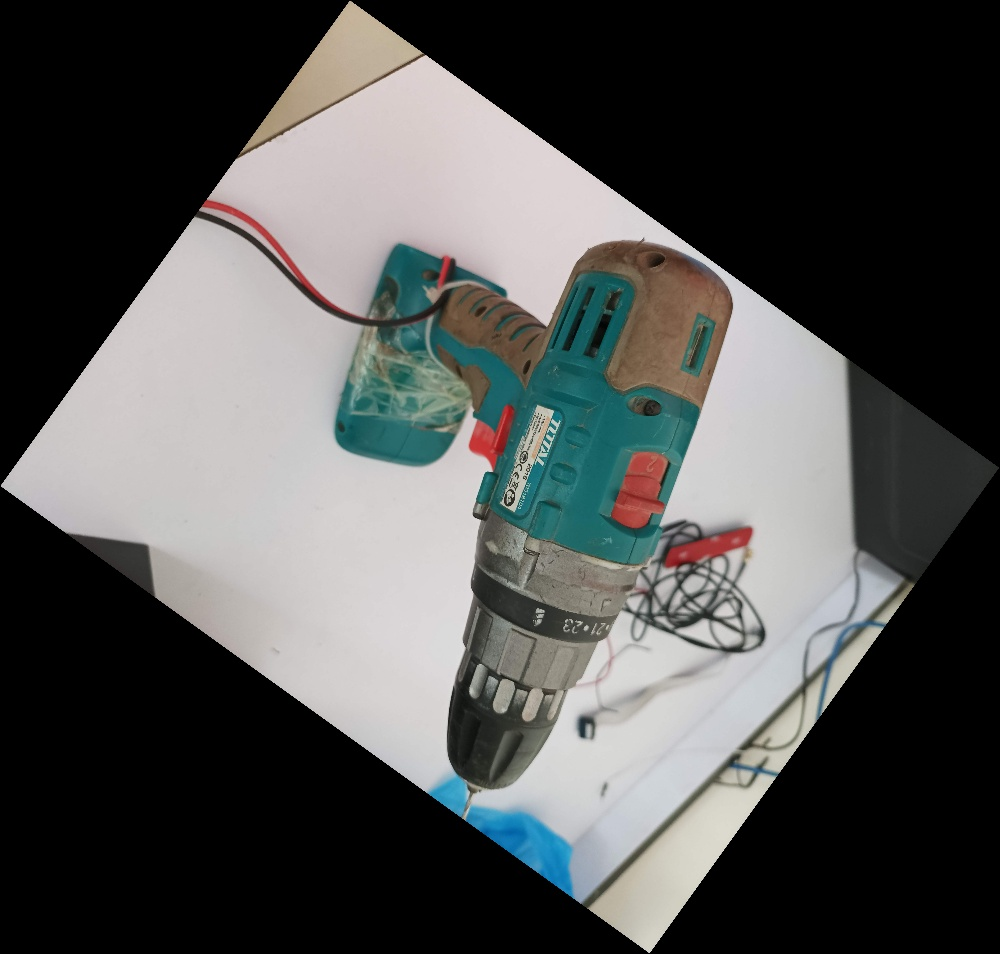driller: (330, 234, 739, 822)
